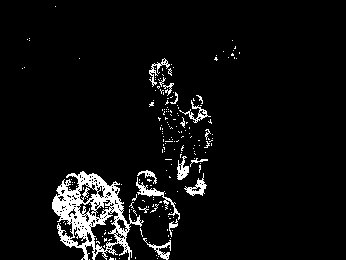person: (129, 166, 181, 260), (82, 168, 135, 260), (53, 169, 99, 260), (184, 93, 214, 198), (161, 91, 185, 186)
